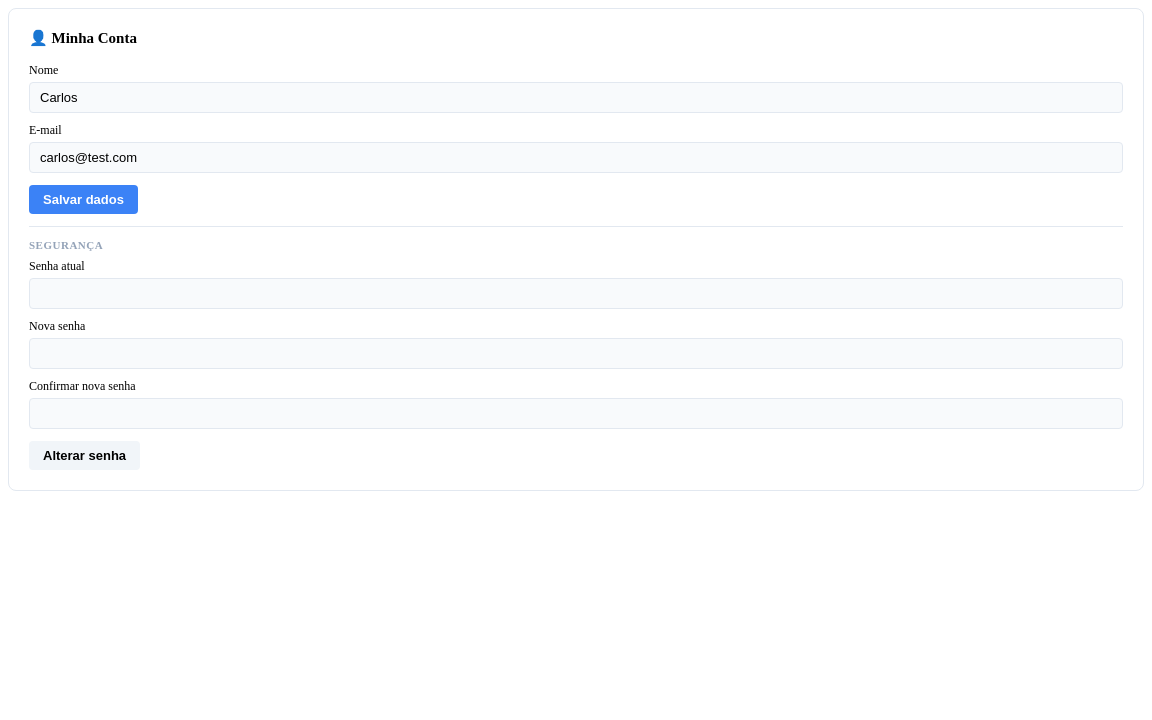
ContaCard — validação de senha › clears password fields and shows success after change
In the password field below "Senha atual": (576, 294) x1=29 y1=278 x2=1123 y2=309, type "atual123"
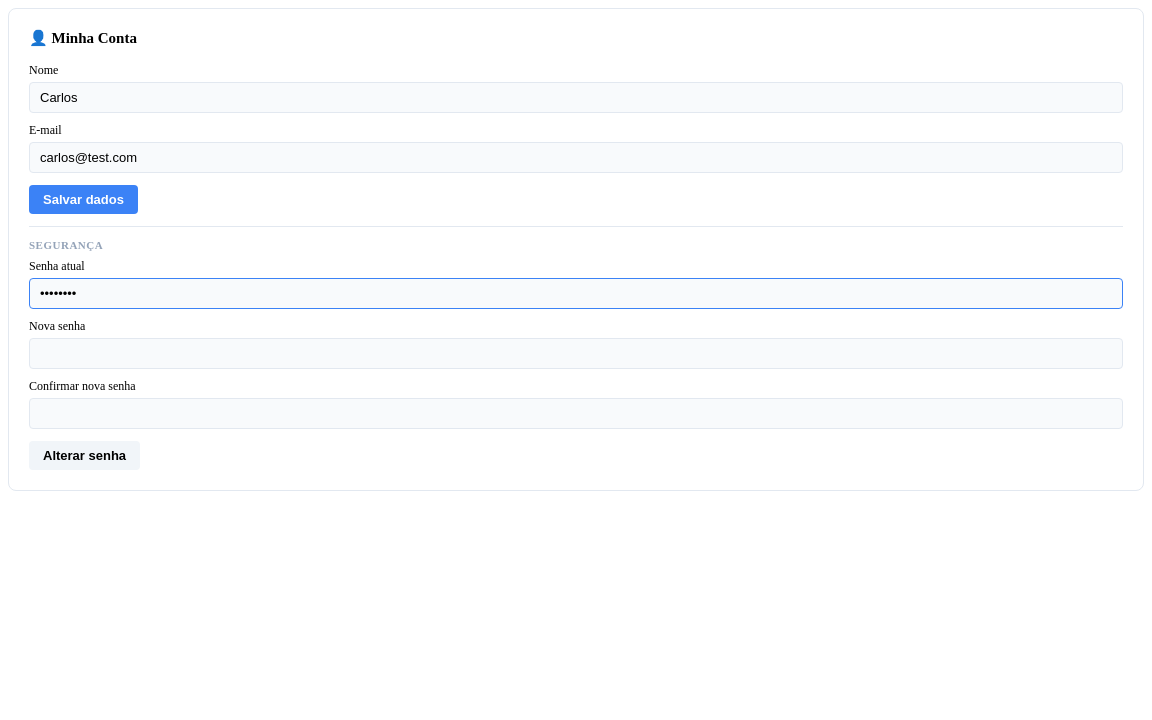
In the 2nd password field: (576, 354) x1=29 y1=338 x2=1123 y2=369, type "nova456"
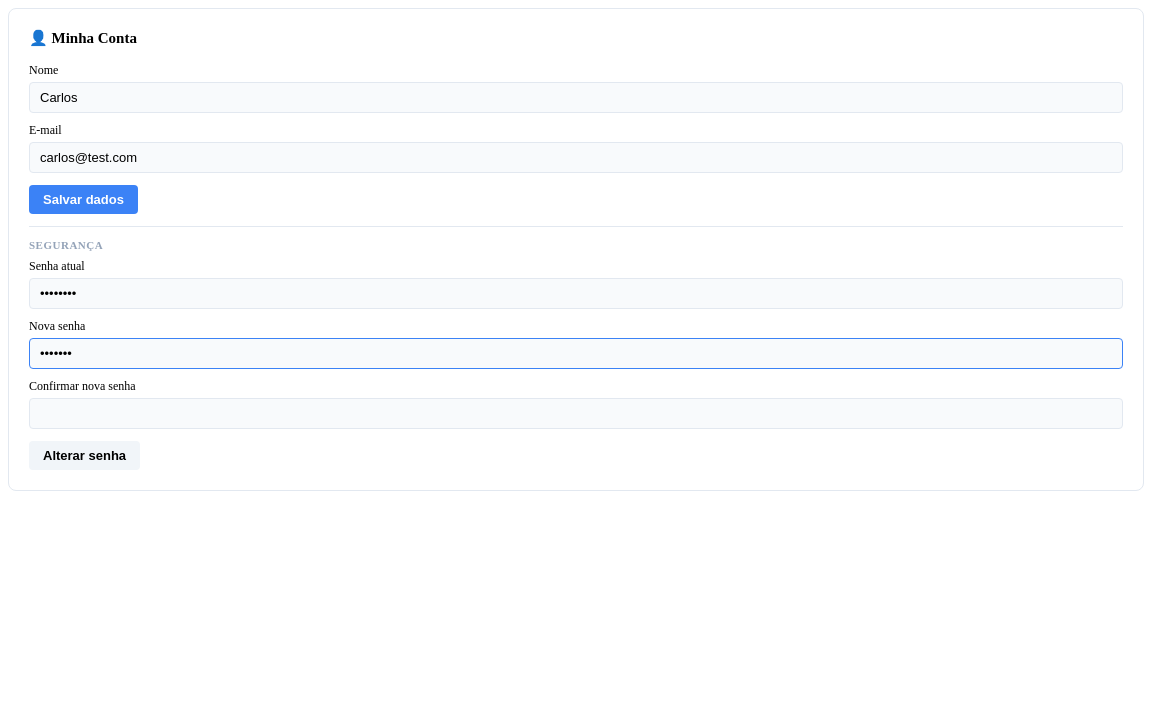
In the password field below "Confirmar nova senha": (576, 414) x1=29 y1=398 x2=1123 y2=429, type "nova456"
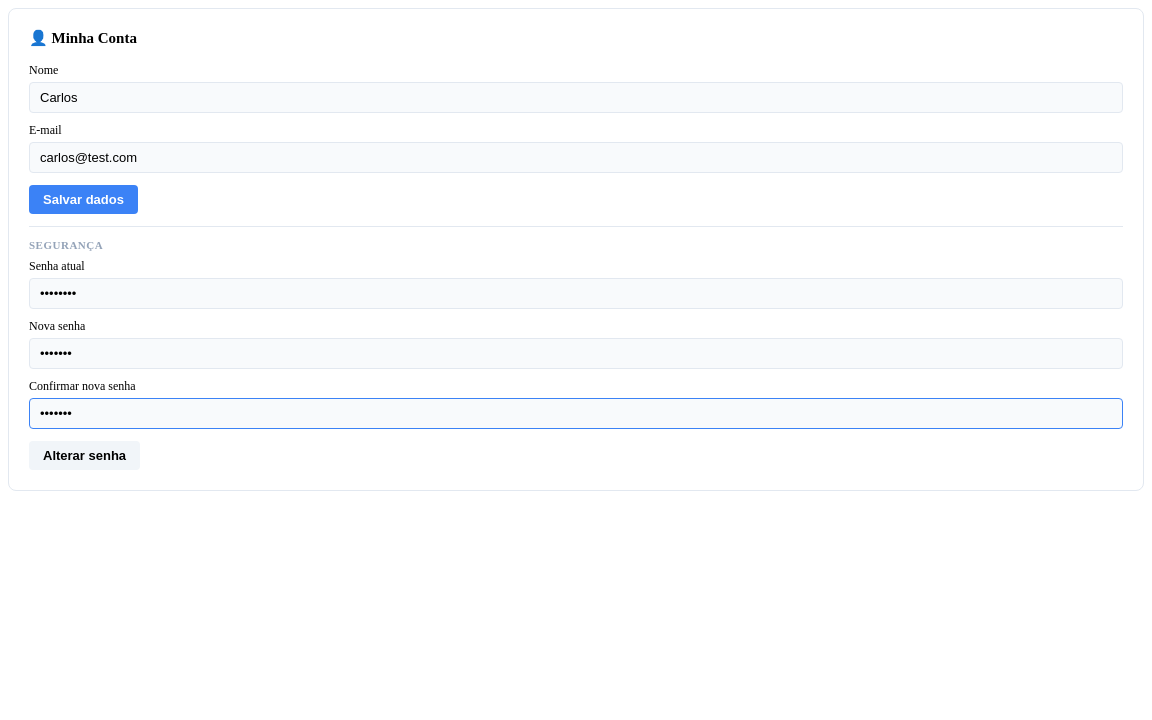
Click the button "Alterar senha": click(85, 456) x1=29 y1=441 x2=140 y2=470
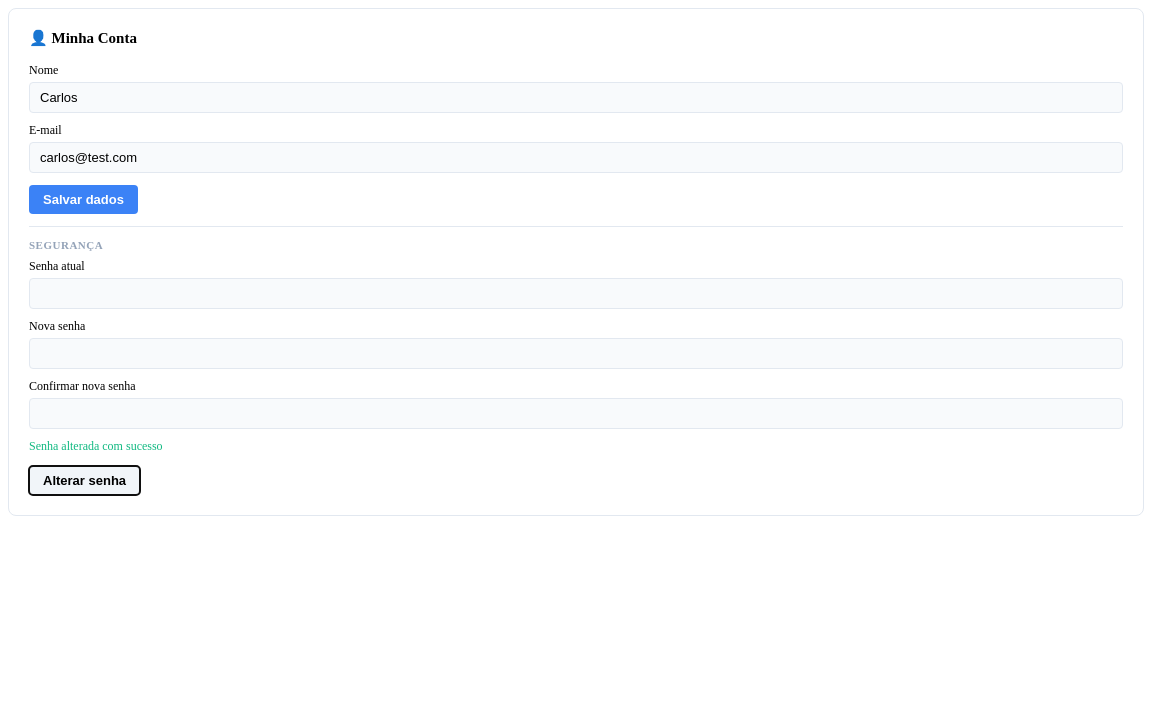
Check: the text "Senha alterada com sucesso" is shown, box x1=29 y1=439 x2=163 y2=453
Check: the password field below "Senha atual" is empty, box x1=29 y1=278 x2=1123 y2=309
Check: the 2nd password field is empty, box x1=29 y1=338 x2=1123 y2=369
